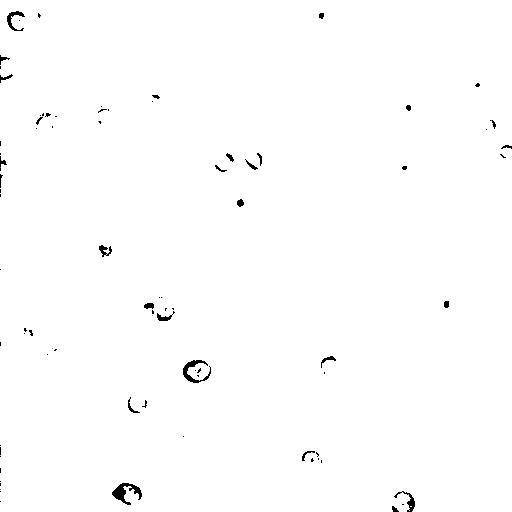micro-algae: (180, 320, 266, 403), (67, 141, 137, 211), (220, 345, 276, 398), (365, 248, 408, 288), (216, 469, 254, 511), (216, 130, 259, 167), (476, 468, 512, 512), (79, 392, 121, 428), (86, 374, 125, 412), (1, 147, 32, 191), (100, 474, 134, 507), (126, 297, 164, 326), (432, 287, 466, 319), (33, 109, 64, 142), (459, 260, 491, 291), (478, 1, 508, 33), (149, 293, 178, 322), (24, 6, 54, 34), (90, 105, 121, 132), (402, 306, 431, 333), (110, 483, 144, 506), (182, 359, 213, 384), (299, 449, 325, 478), (82, 176, 107, 204), (390, 154, 416, 179), (309, 4, 334, 29), (17, 322, 41, 347), (263, 100, 287, 125), (390, 490, 416, 512), (142, 442, 169, 463), (45, 345, 69, 368), (38, 462, 64, 482), (319, 353, 339, 378), (126, 396, 148, 418), (213, 152, 236, 173), (6, 11, 27, 33), (466, 69, 486, 92), (1, 56, 18, 82), (243, 148, 263, 170), (400, 97, 420, 119), (95, 237, 114, 258), (481, 117, 499, 136), (228, 195, 251, 209), (171, 422, 188, 439), (445, 75, 459, 91), (298, 504, 324, 512), (500, 144, 512, 160)
